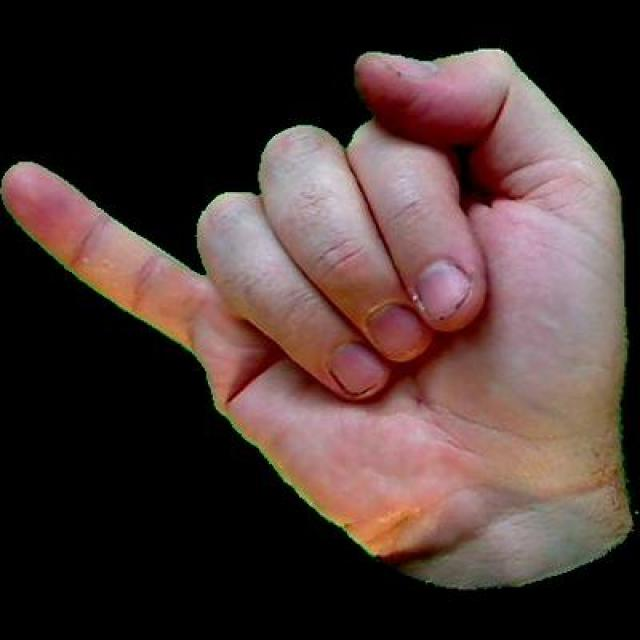j: (0, 22, 637, 598)
